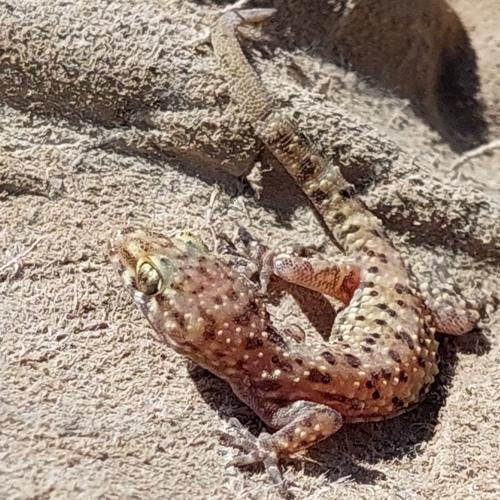lizard: (111, 3, 484, 481)
